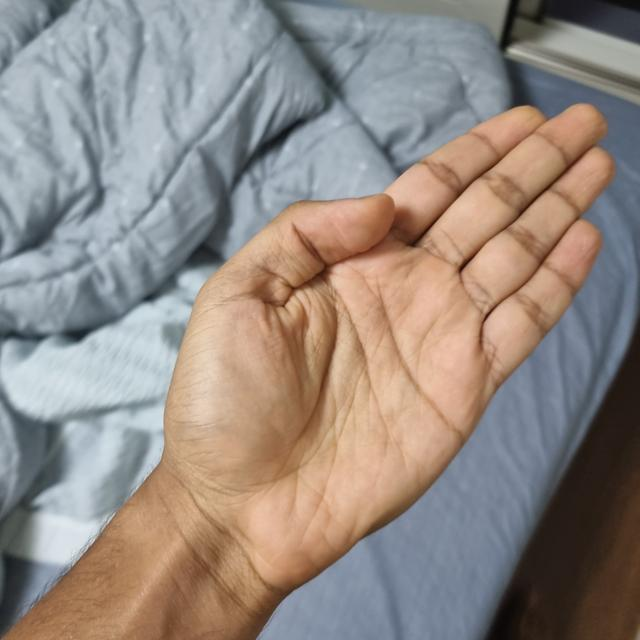Paper: (161, 102, 615, 580)
